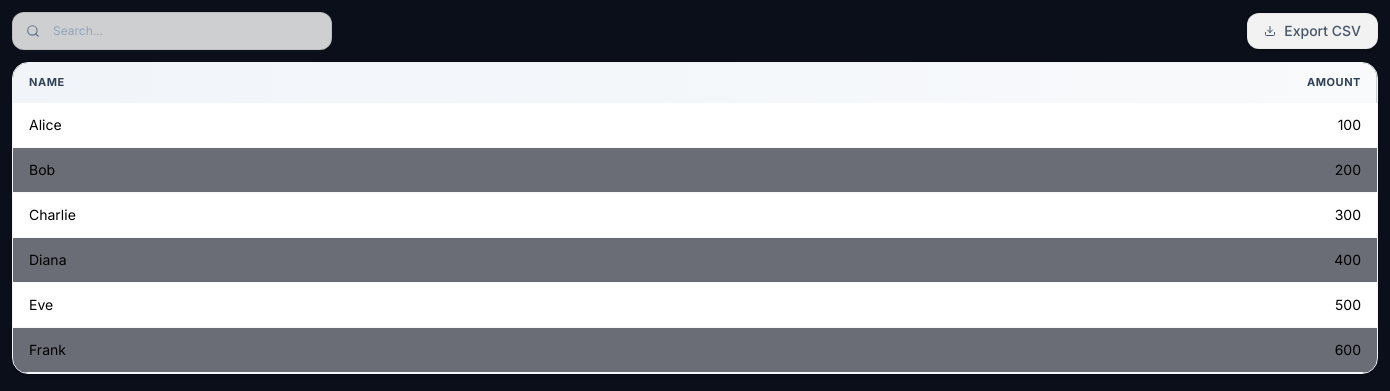
Scenario: DataTable › filters data with search input
Type "Ali" into the field with placeholder "Search..." at x=172, y=31, box [12, 12, 332, 50]
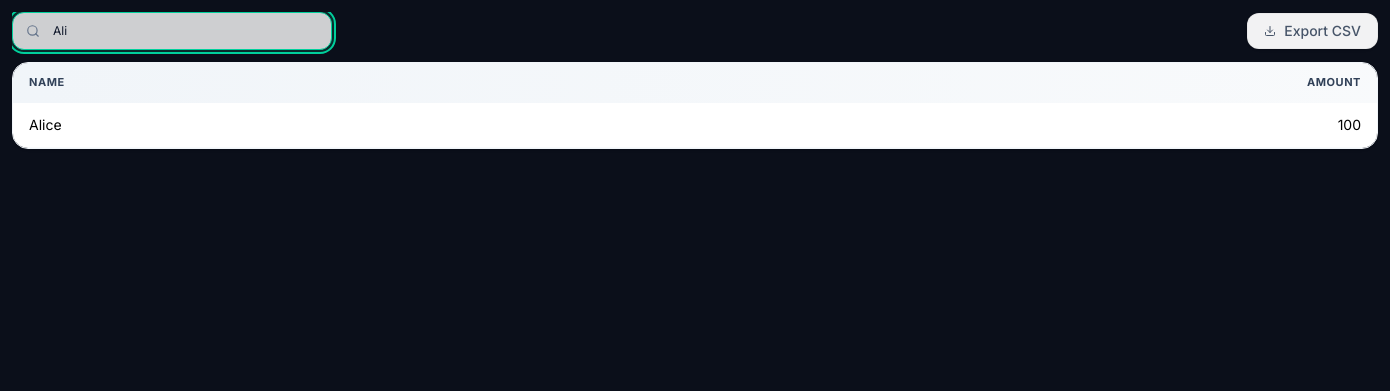
Expected: the text "Alice" is shown, [13, 103, 614, 147]
Expected: the text "Bob" is gone
Expected: the text "Charlie" is gone
